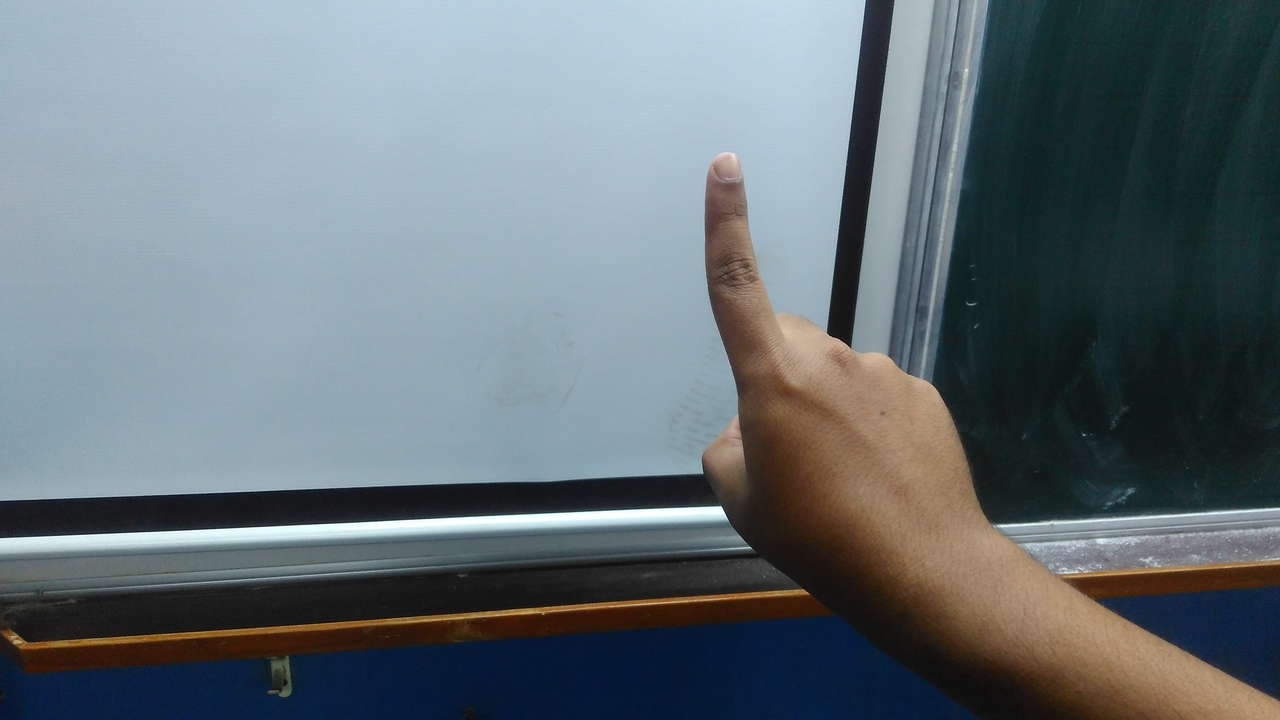fingertip: (702, 144, 756, 190)
